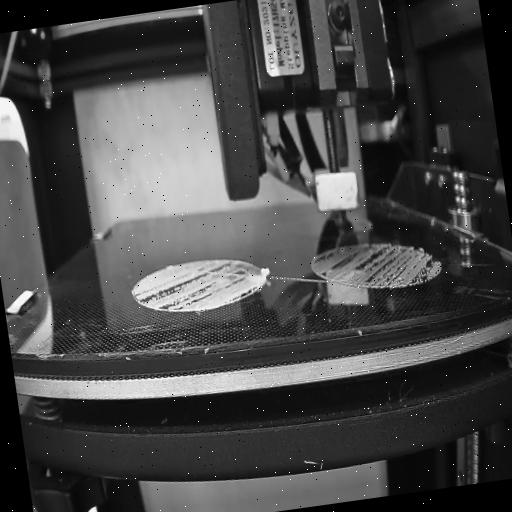under_extrusion: (310, 232, 438, 297), (130, 256, 260, 318)
